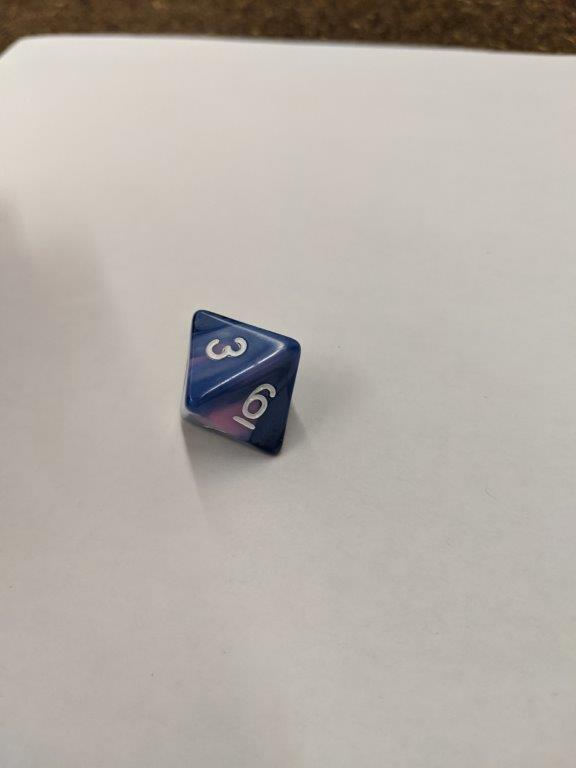d8-3: (180, 309, 304, 458)
